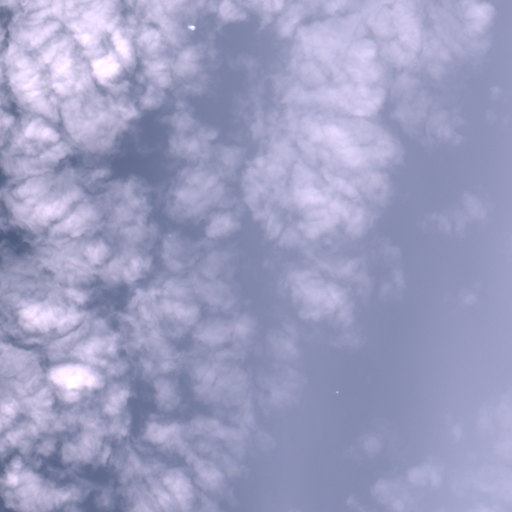Iceberg: (188, 25, 195, 30), (336, 391, 338, 392)
